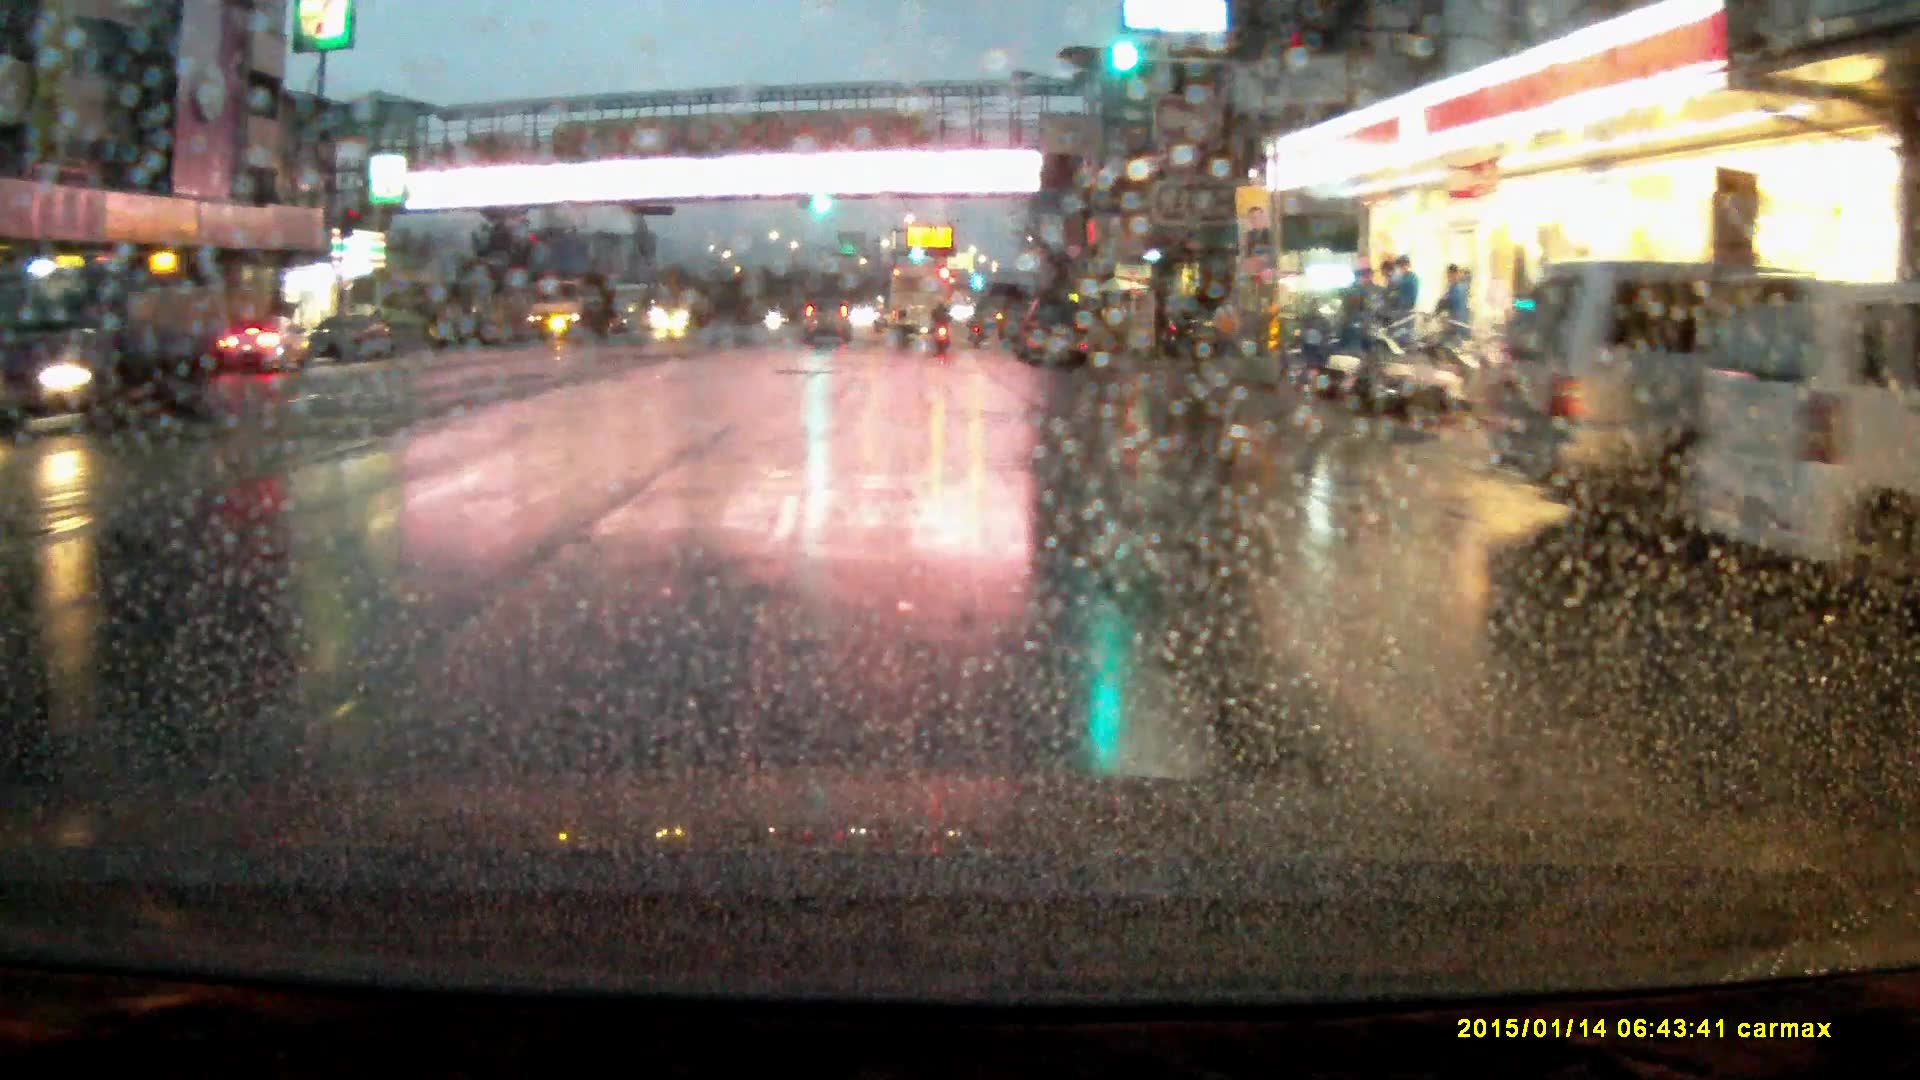rider: (931, 297, 956, 351)
vehicle: (1491, 260, 1861, 545), (21, 267, 238, 425), (527, 279, 613, 343), (1020, 292, 1090, 367), (891, 263, 954, 344), (301, 312, 399, 363), (1159, 298, 1241, 358), (800, 296, 855, 346), (659, 281, 716, 329)
